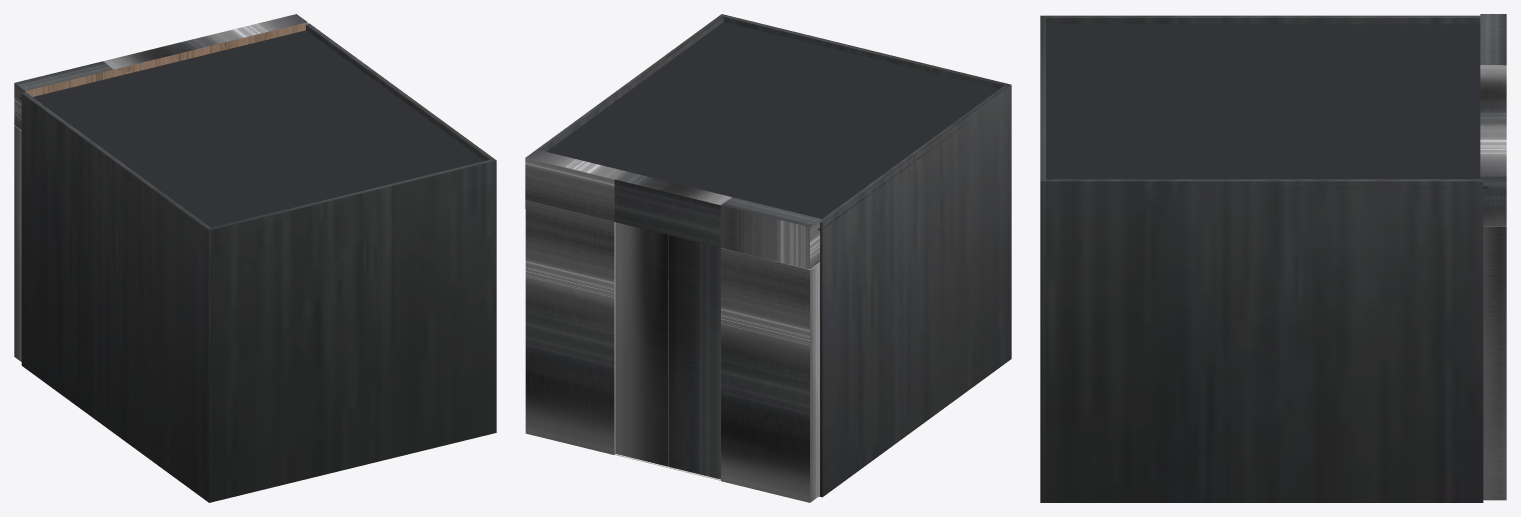
Rendered from cabin.glb.
3 renders of one model, left to right at view 1: azimuth 30°, elevation 25°; view 2: azimuth 150°, elevation 25°; view 3: azimuth 270°, elevation 25°, orthographic. The views are drawn at different scales.
Visible parts, largest first — view 1: cabin; view 2: cabin, door_r, door_l; view 3: cabin.
Part boxes in pixels (x1=…): cabin: x1=14, y1=14, x2=496, y2=502; cabin: x1=525, y1=14, x2=1011, y2=502; door_r: x1=615, y1=222, x2=668, y2=466; door_l: x1=668, y1=235, x2=720, y2=479; cabin: x1=1040, y1=14, x2=1506, y2=502.
Bounding box in the file's own units: 2.73 × 2.49 × 3.25.
Materials: 14 (8 with a texture image).
